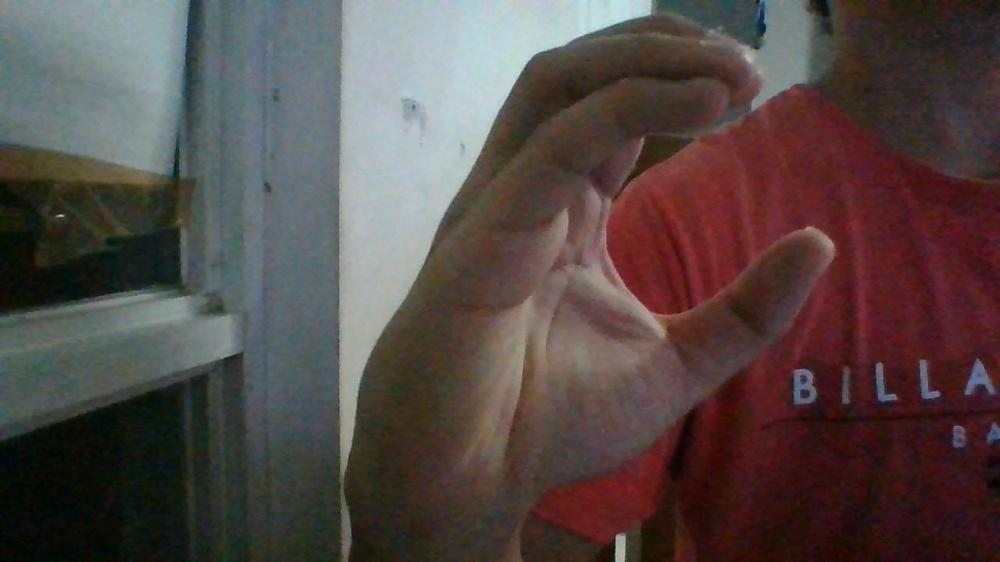c: (337, 8, 838, 505)
